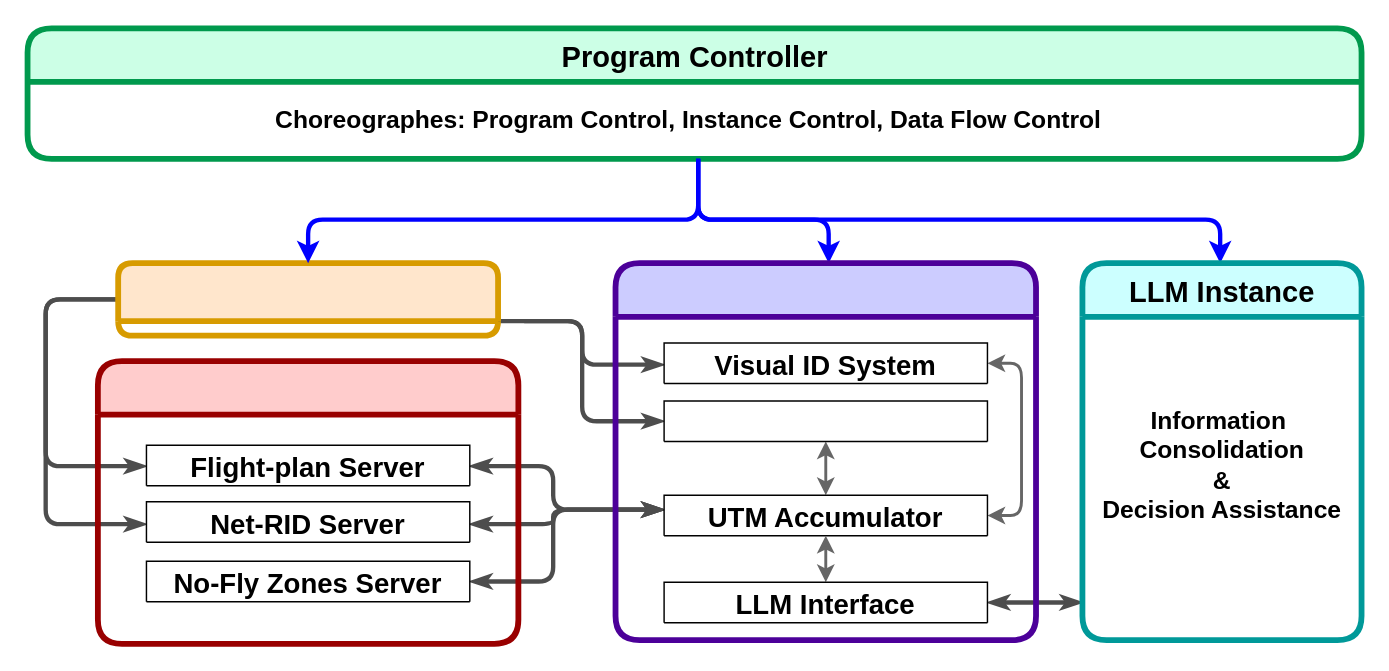
This 1389x671 diagram has some shape labels left out. The shapes that lost their labels are listed below. From the top down, each one's box as (x1, y1, x2, y2) in pixels, then its label:
(115, 260, 500, 338): Single Simulated UAV
(663, 399, 987, 442): Broadcast RID System
(612, 260, 1038, 642): Single Observer
(94, 357, 521, 646): UTM Components
